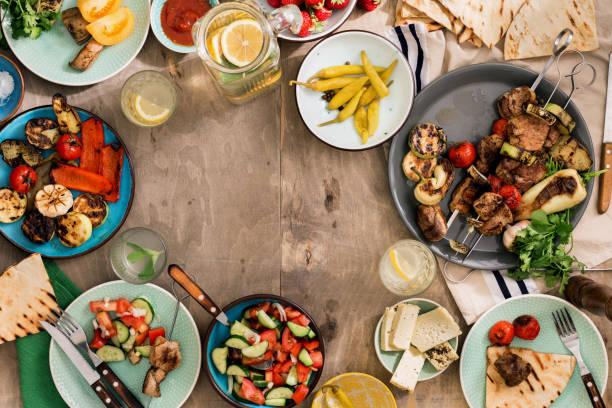Braised Crucian Carp: (389, 60, 594, 268), (0, 102, 137, 257), (51, 280, 198, 406), (457, 294, 610, 406), (203, 292, 323, 405)
